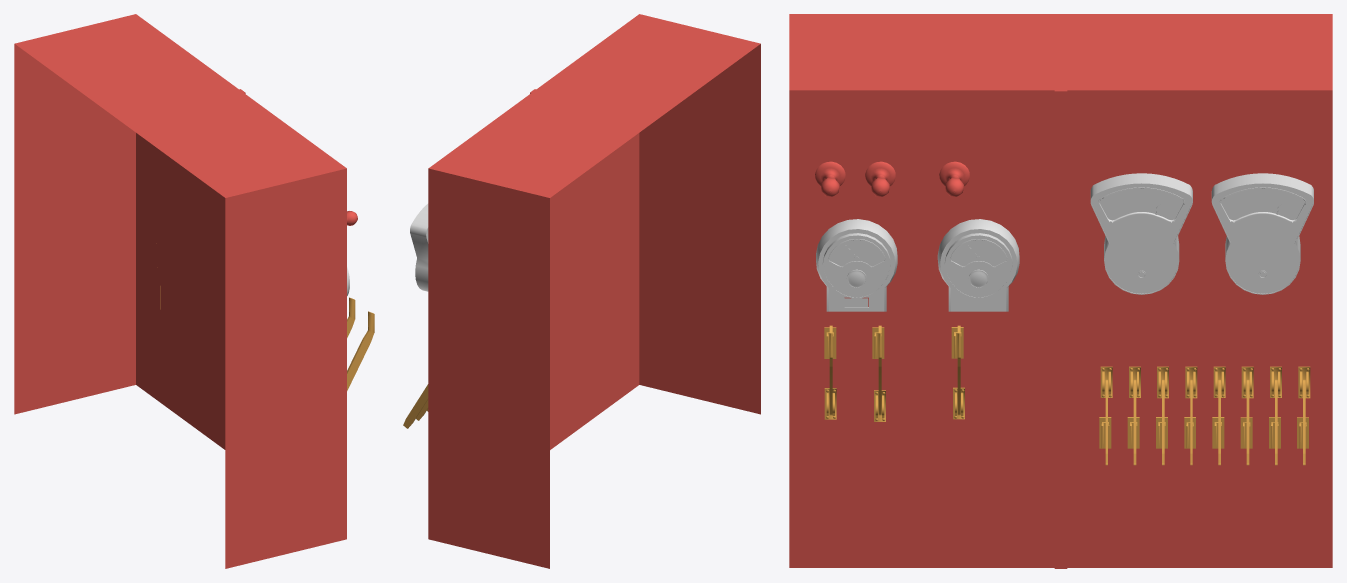
Rendered from switch.fbx.
3 renders of one model, left to right at view 1: azimuth 30°, elevation 25°; view 2: azimuth 150°, elevation 25°; view 3: azimuth 270°, elevation 25°, orthographic. The views are drawn at different scales.
Parts seen in each view (by area): view 1: Switch01, Switch01.010; view 2: Switch01; view 3: Switch01.
Boxes of the visible parts, x1,y1,x2,y2 form: Switch01: [14, 14, 349, 568]; Switch01.010: [347, 311, 374, 390]; Switch01: [410, 14, 760, 568]; Switch01: [789, 14, 1332, 568].
Bounding box in the file's own units: 55.67 × 120 × 124.
